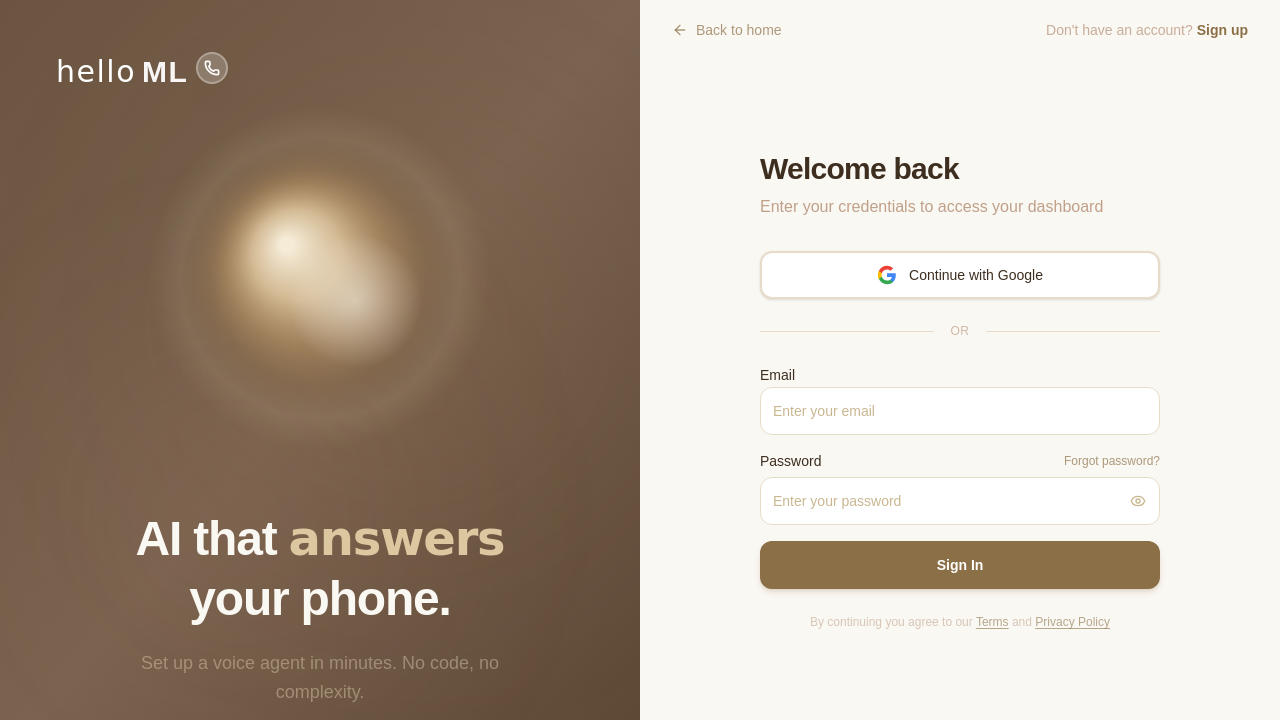
Test case: Auth Page › switches back to login mode
Click the button "Sign up". click: [1222, 30]
box: [1197,20,1248,40]
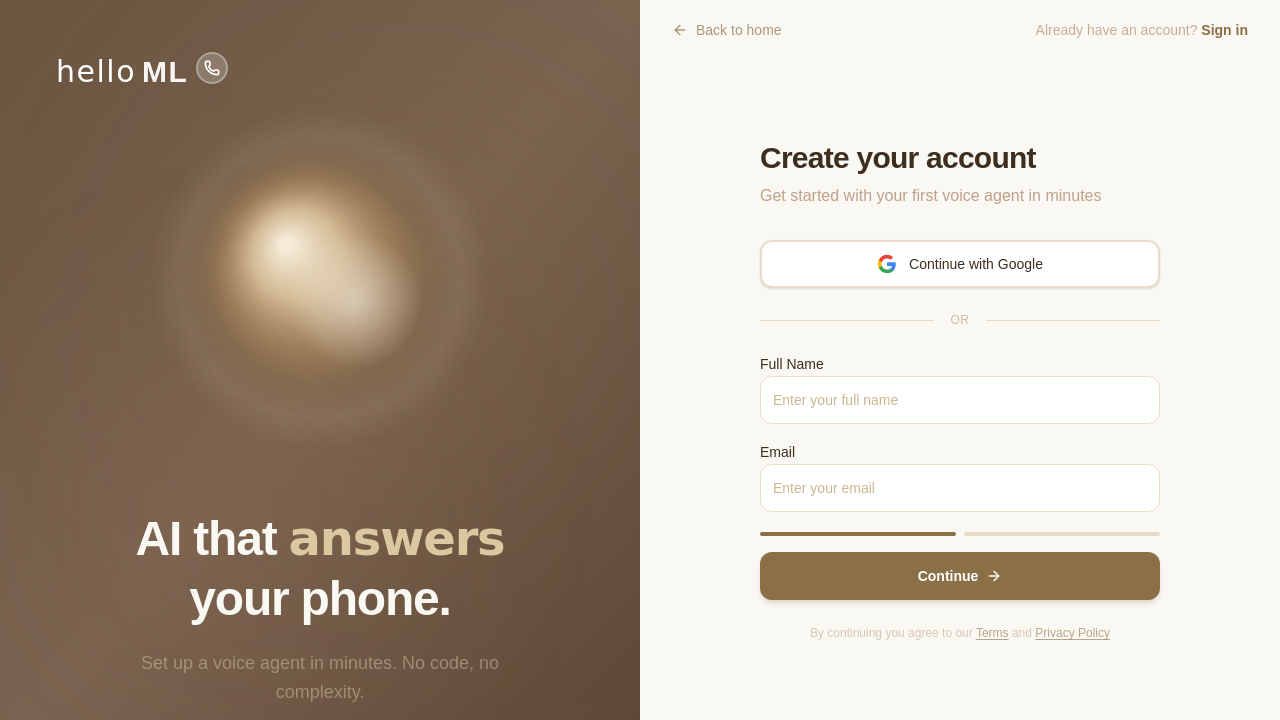
Result: the heading "Create your account" is shown at [760,141,1036,174]
Click the button "Sign in". click: [1225, 30]
box: [1201,20,1248,40]
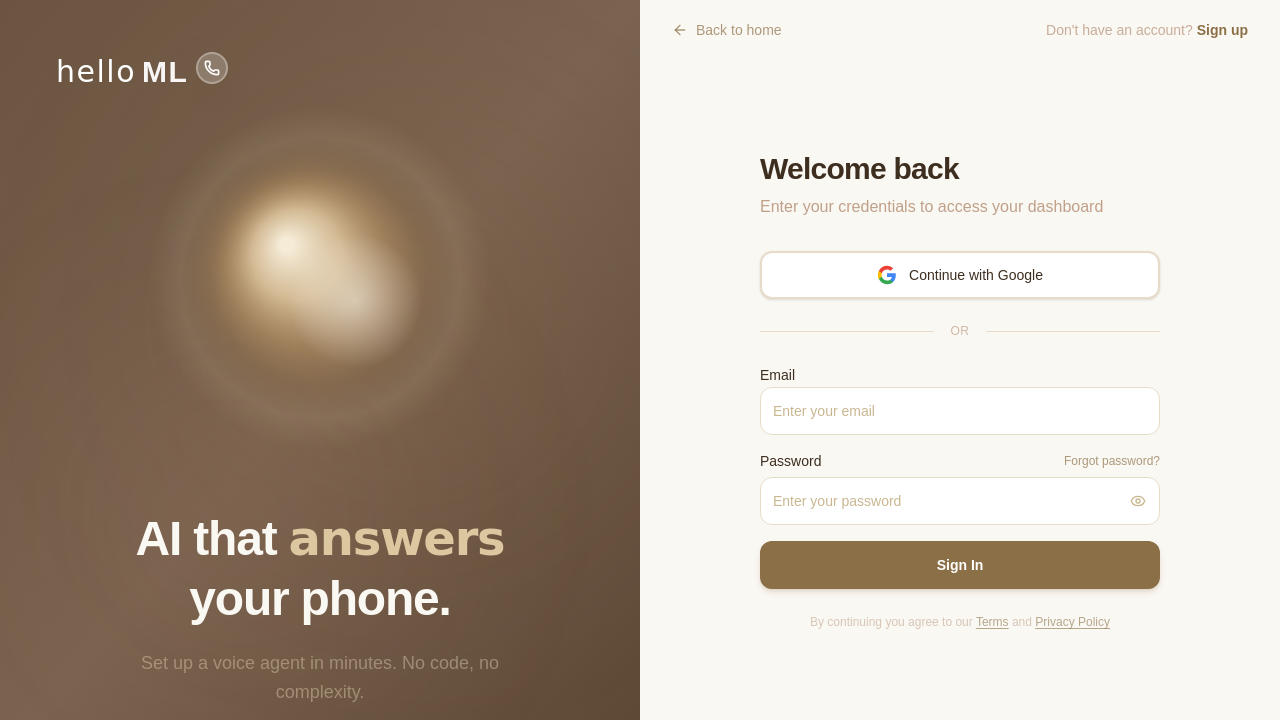
Result: the heading "Welcome back" is shown at [760,152,959,185]
